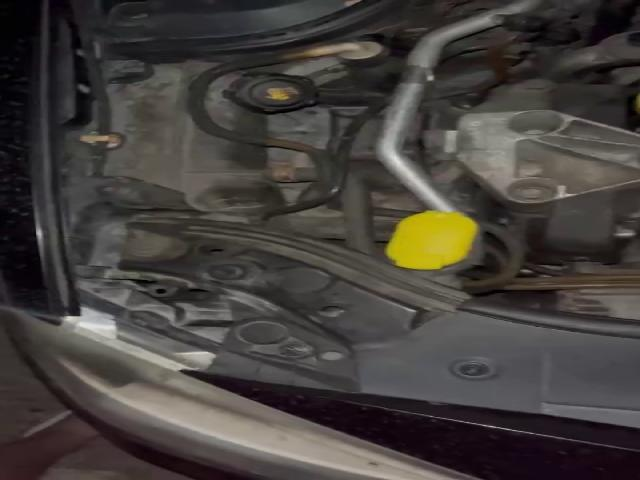antifreeze_tank: (104, 61, 287, 221), (205, 68, 318, 135)
